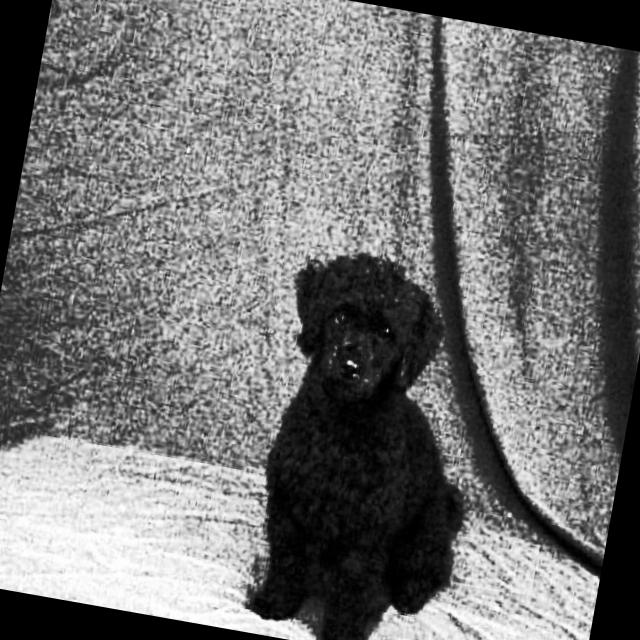Dog: (225, 231, 512, 640)
